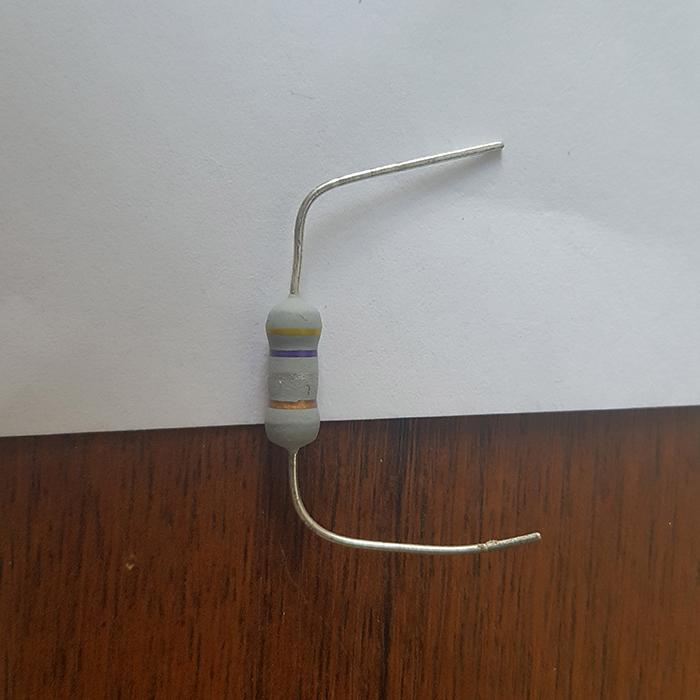resistor: (264, 294, 322, 451)
